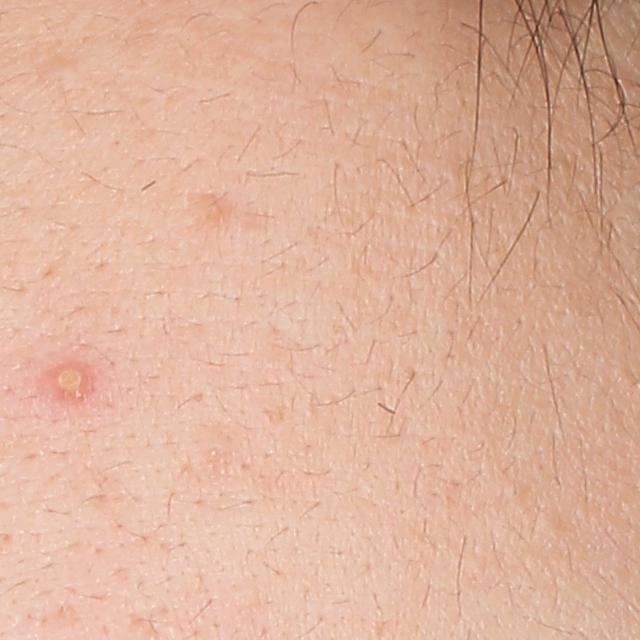pustule: (44, 358, 90, 401)
